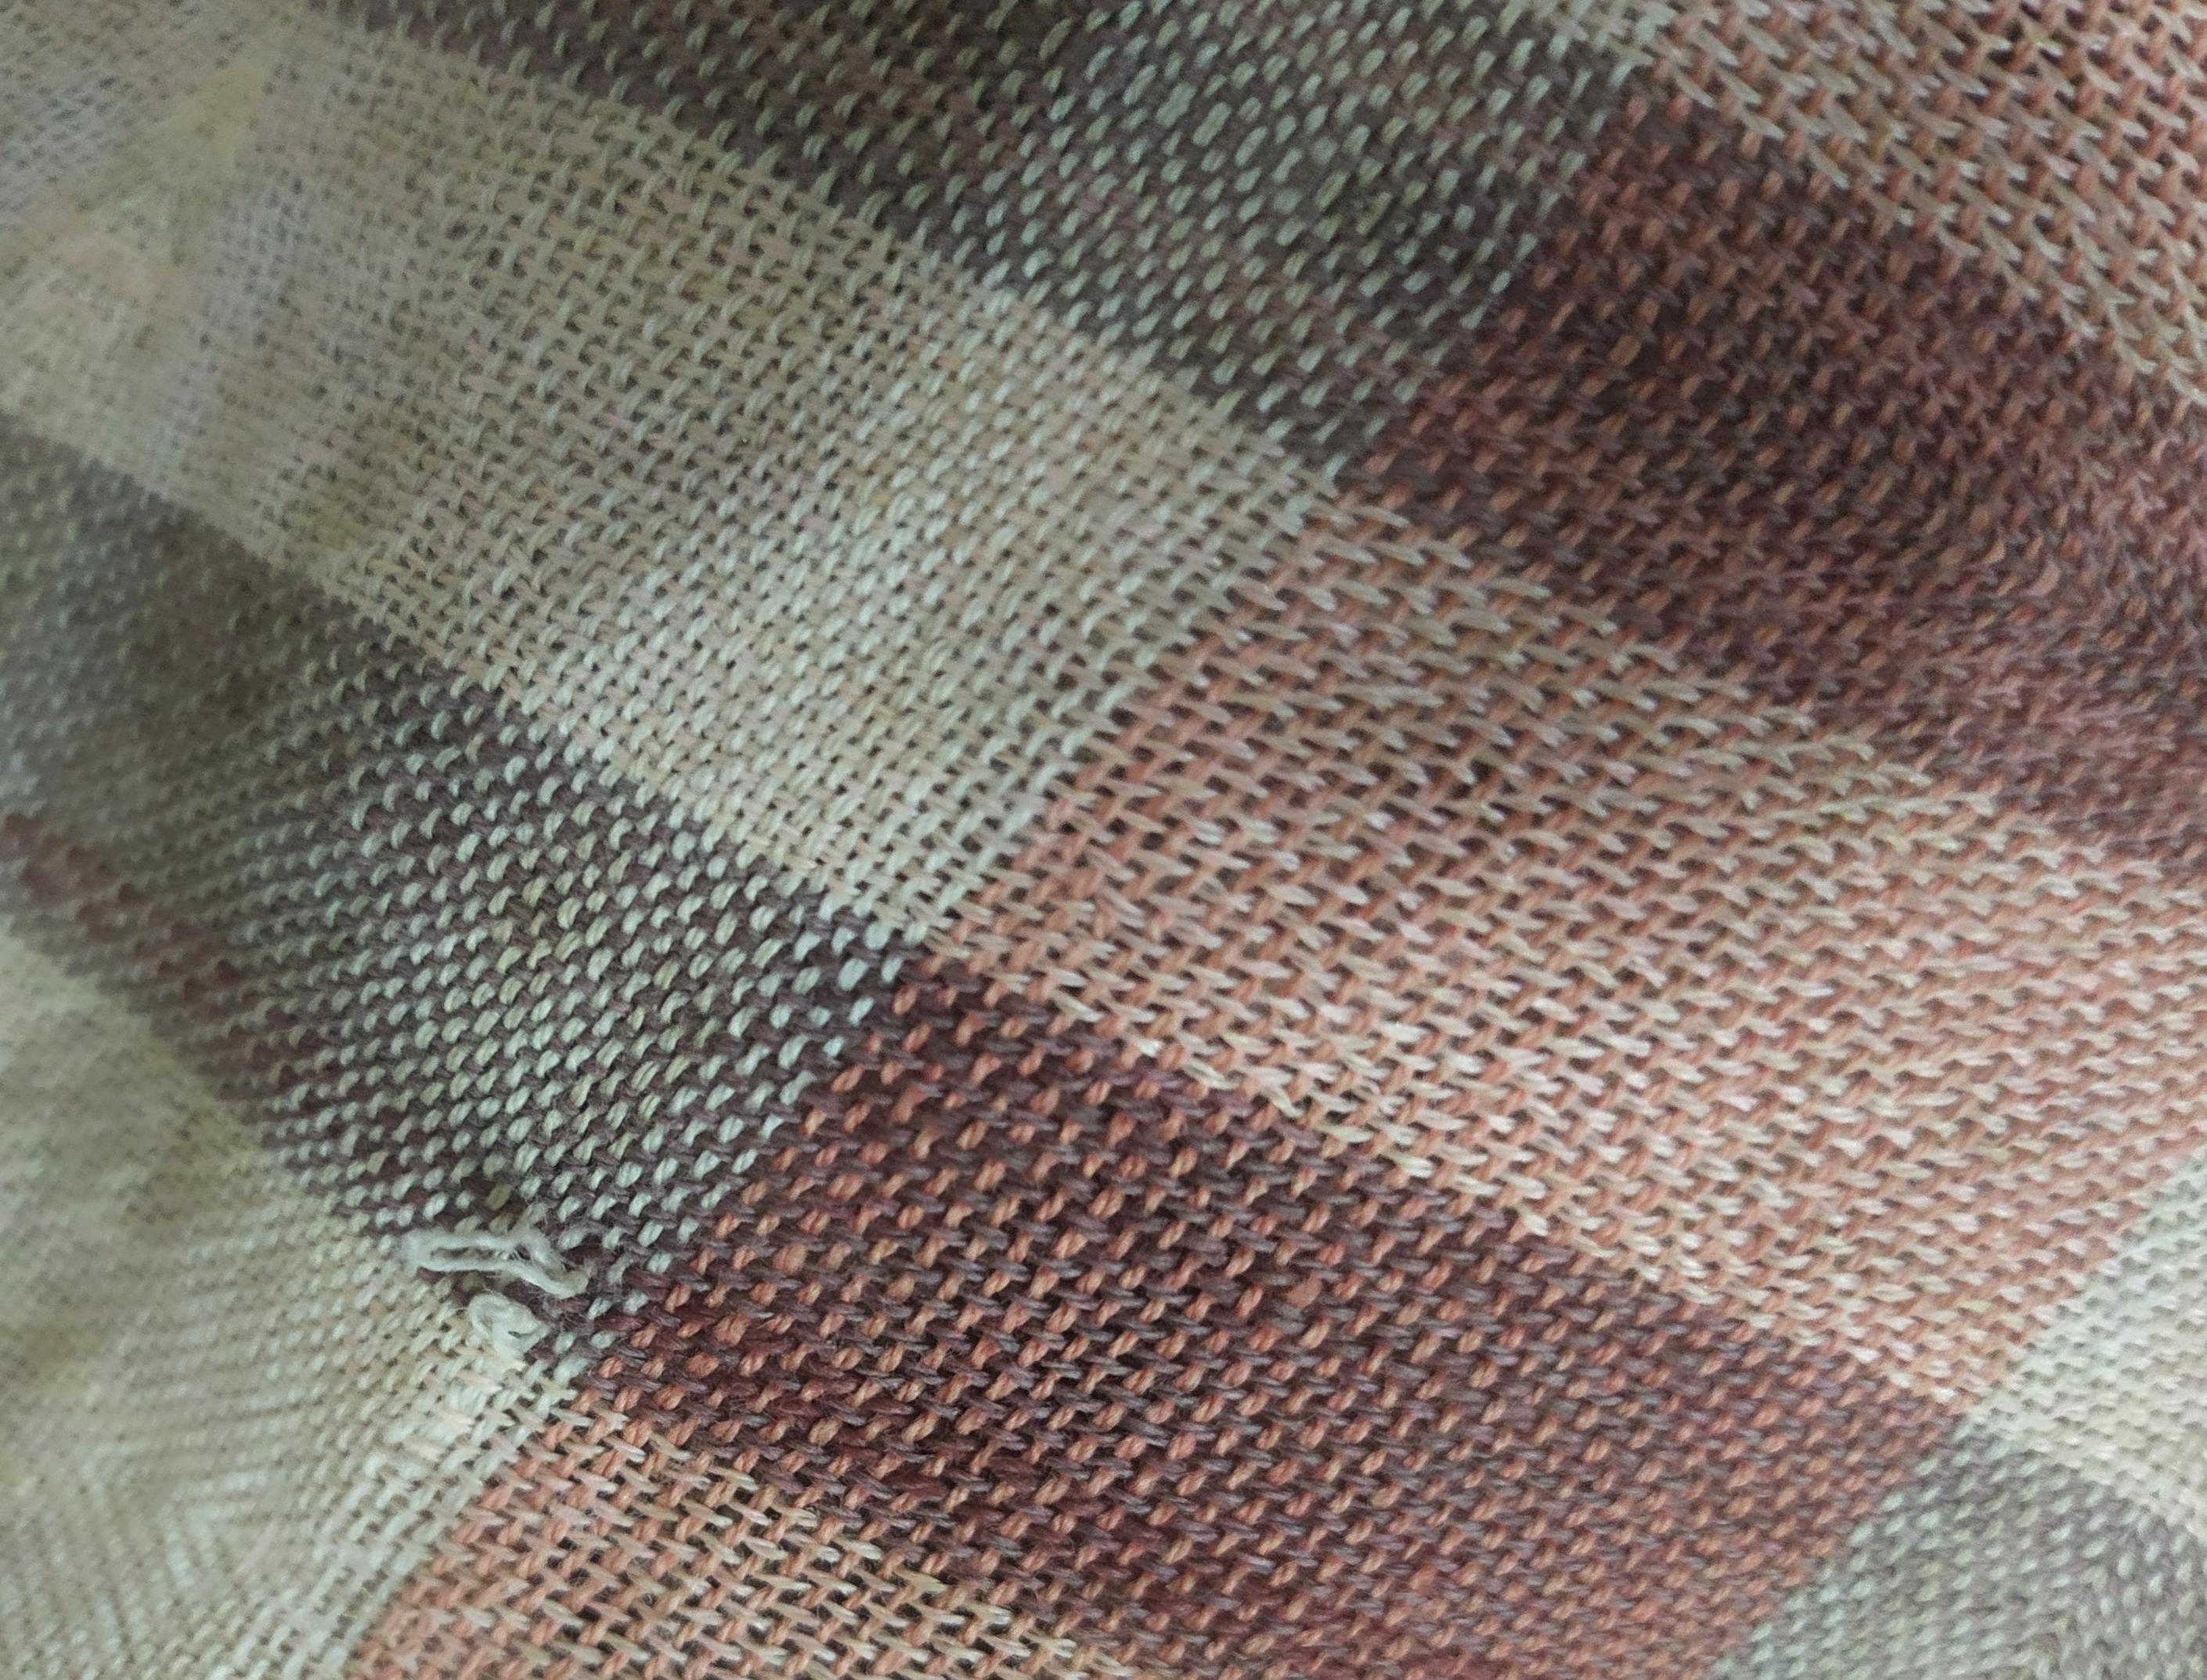snag: (356, 1177, 580, 1378)
